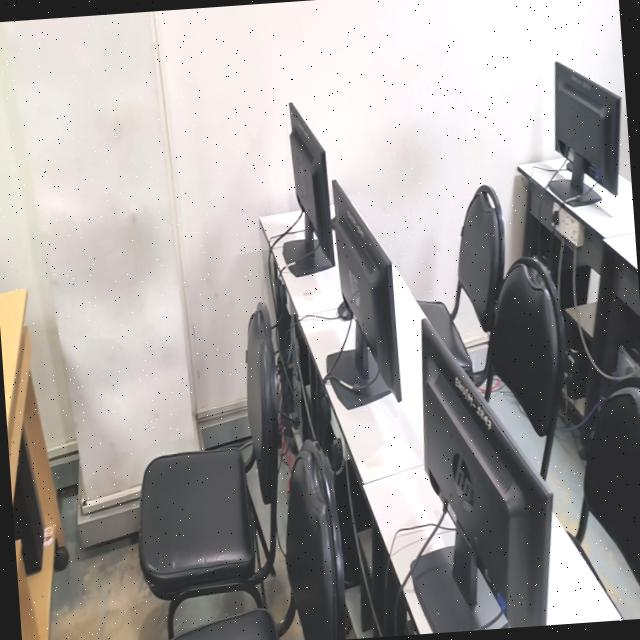Chair: (138, 304, 280, 639), (417, 185, 504, 381), (488, 257, 565, 478), (286, 439, 346, 640), (583, 386, 640, 587), (169, 607, 280, 640)
Cpu: (12, 435, 44, 575)
Monitor: (410, 318, 551, 633), (326, 179, 401, 409), (554, 62, 620, 205), (283, 103, 334, 276)
